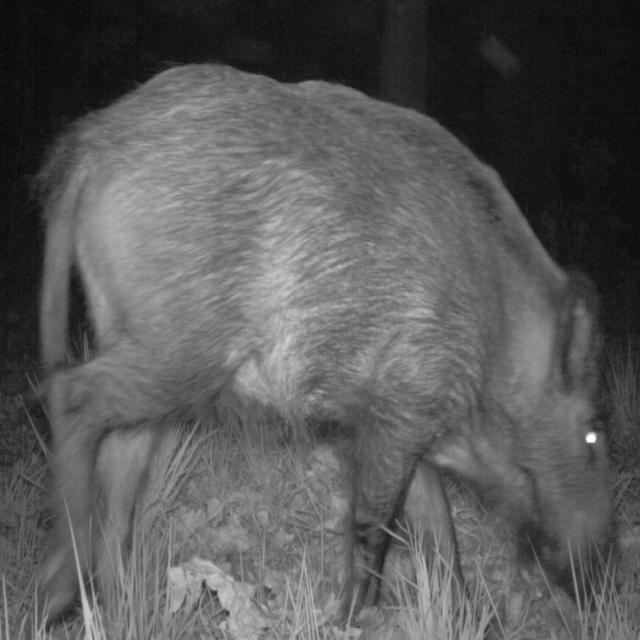pig: (27, 41, 630, 640)
